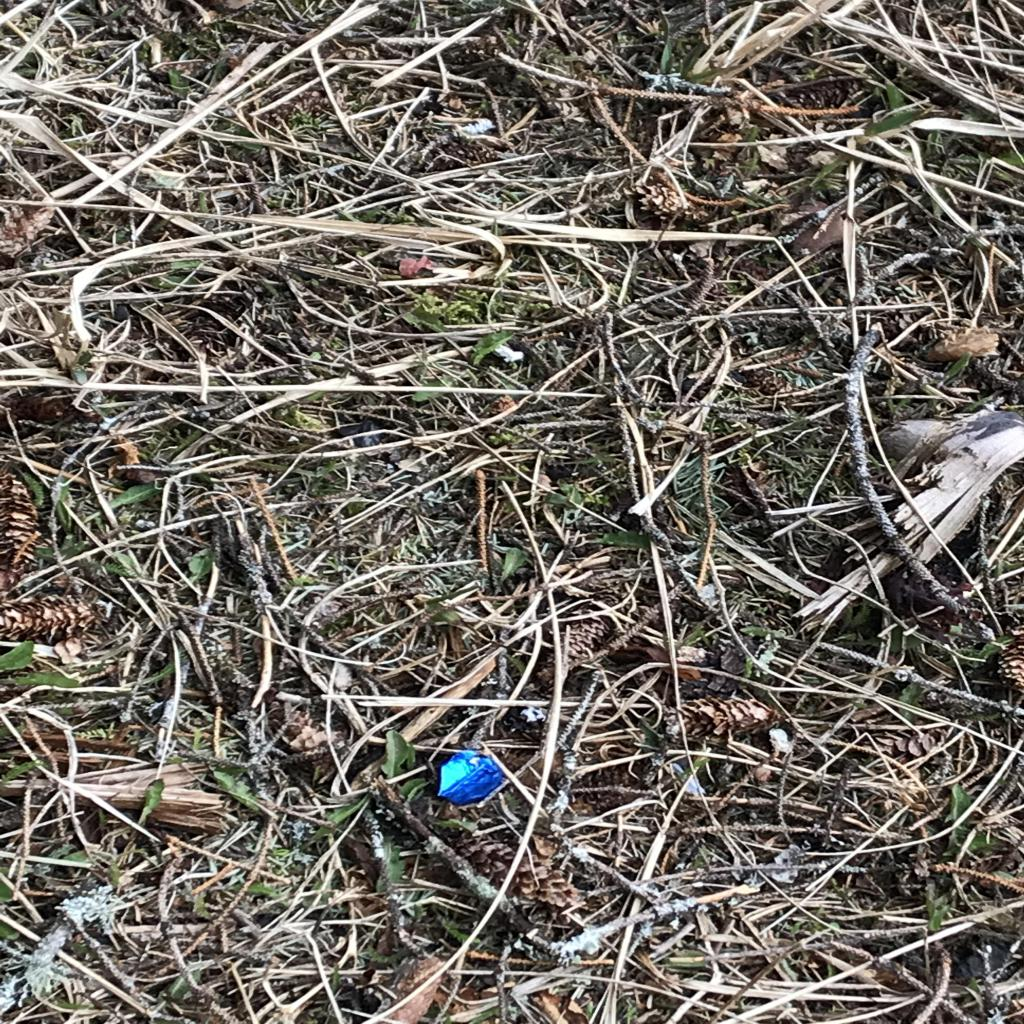Other plastic: (436, 749, 503, 806)
